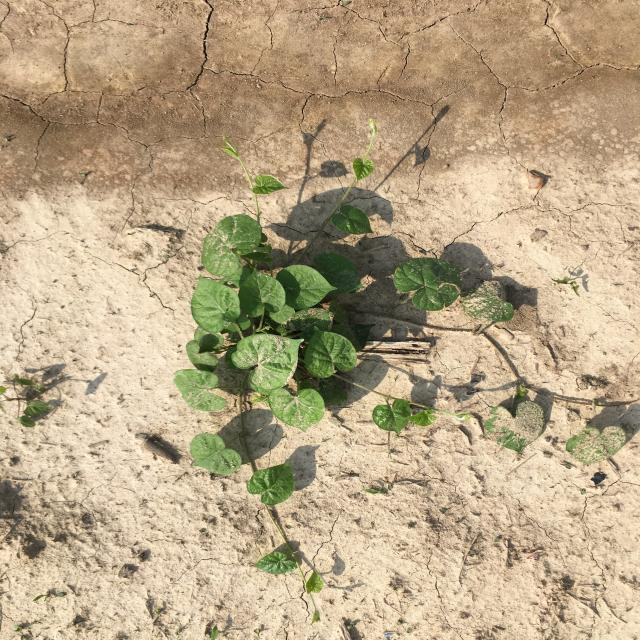MorningGlory: (173, 118, 627, 624), (0, 372, 56, 428)
